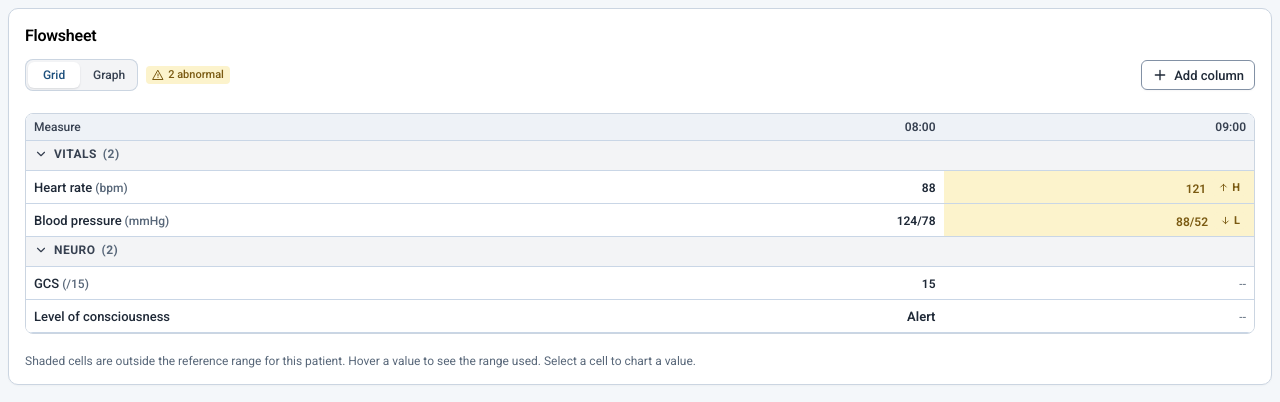
Scenario: Flowsheet › switches to the graph view
Click the radio button labelled "Graph" at (109, 75), box [83,62,135,88]
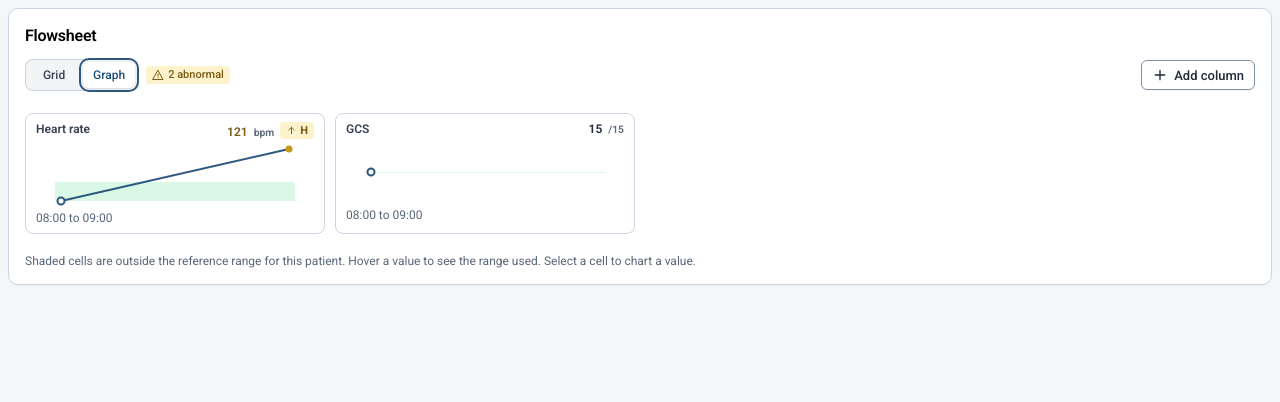
Expected: the picture named "Heart rate: 88, 121 bpm" is shown, [36,143,314,207]
Expected: the table is gone
